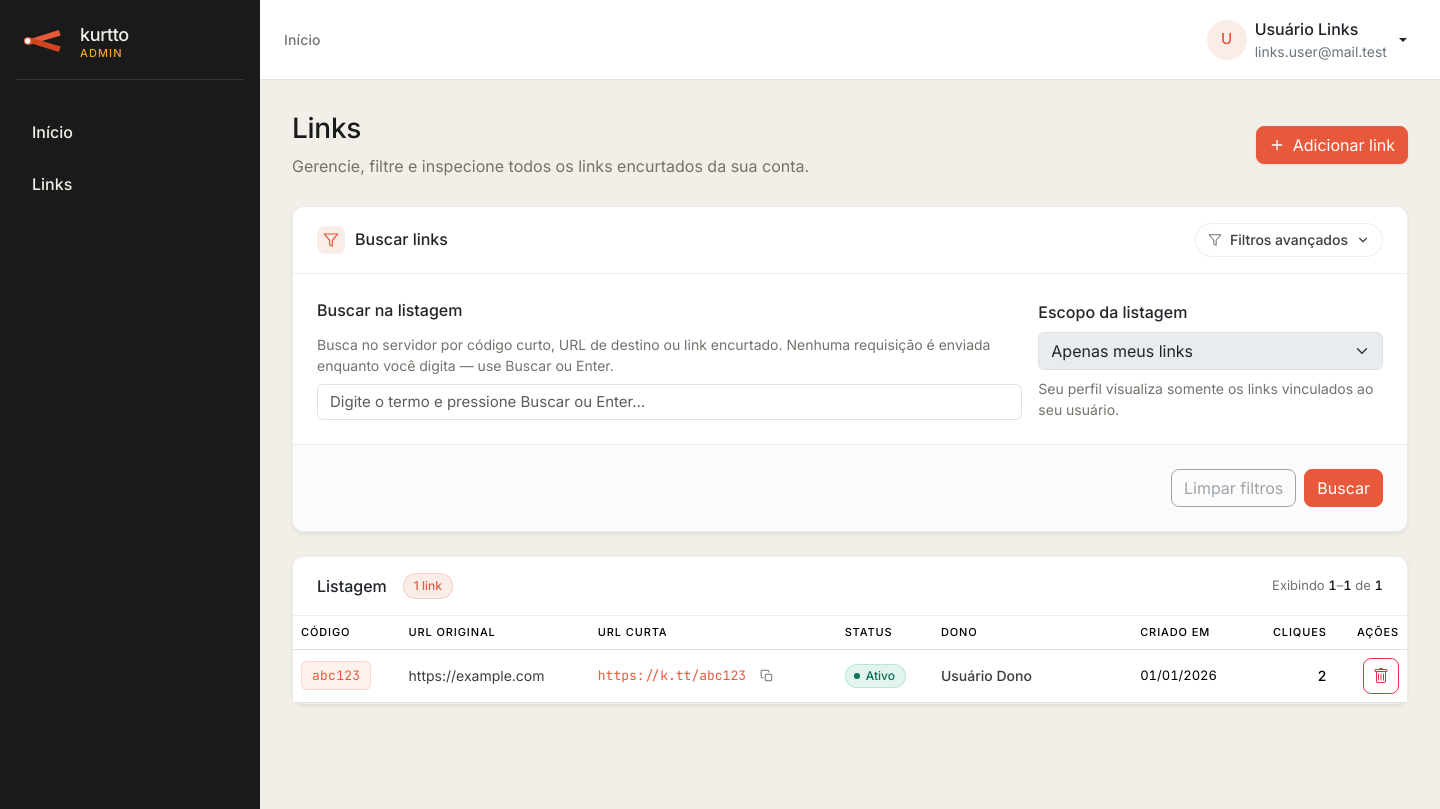
Links › exibe contagem de filtros ativos no botão de filtros avançados
expect the link "https://example.com" is shown: met, box [409,667,545,684]
Click the button "Filtros avançados" at (1289, 240), box [1195,223,1383,257]
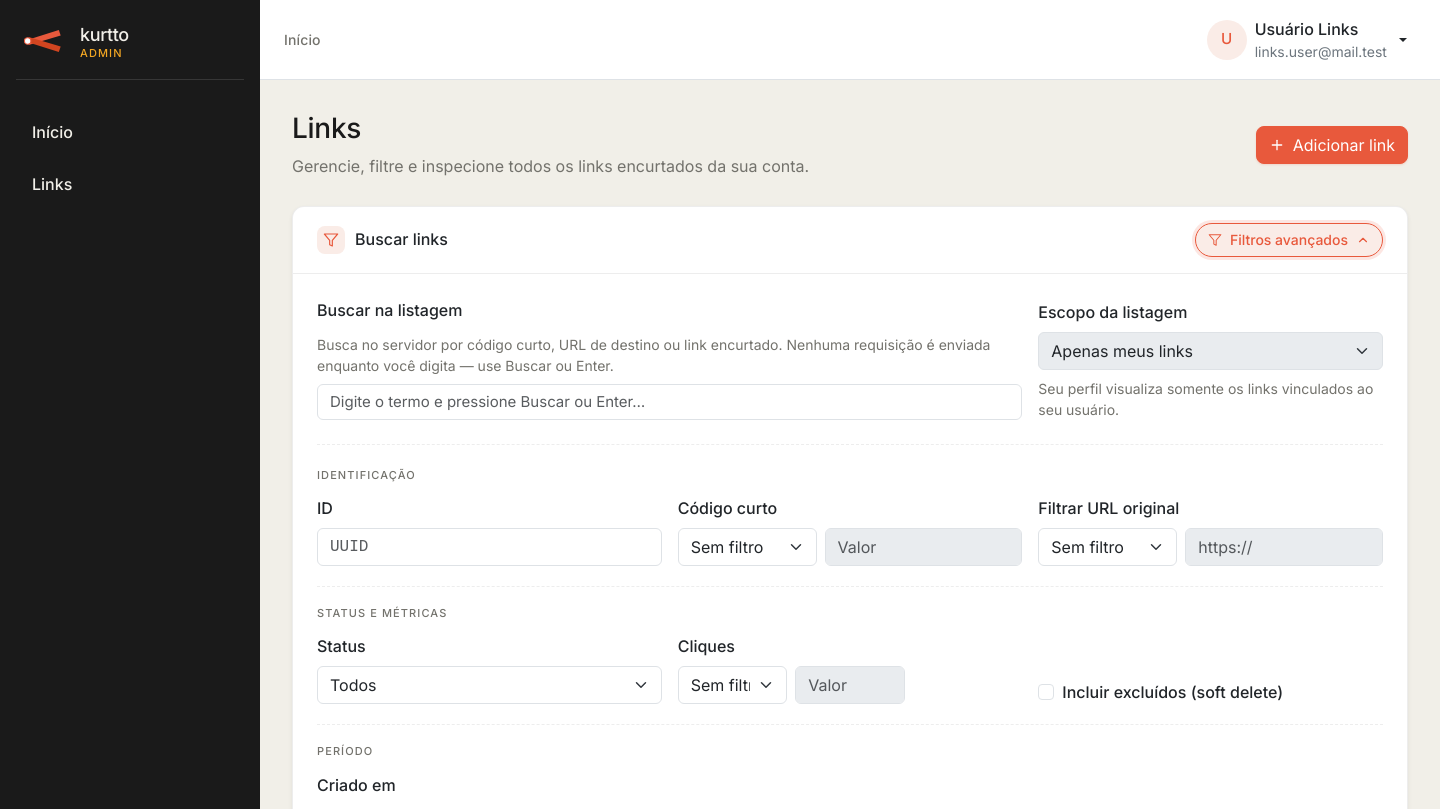
Type "uuid-test" into the field with id "links-filter-id" at (489, 547), box [317,528,662,566]
(page scrolled)
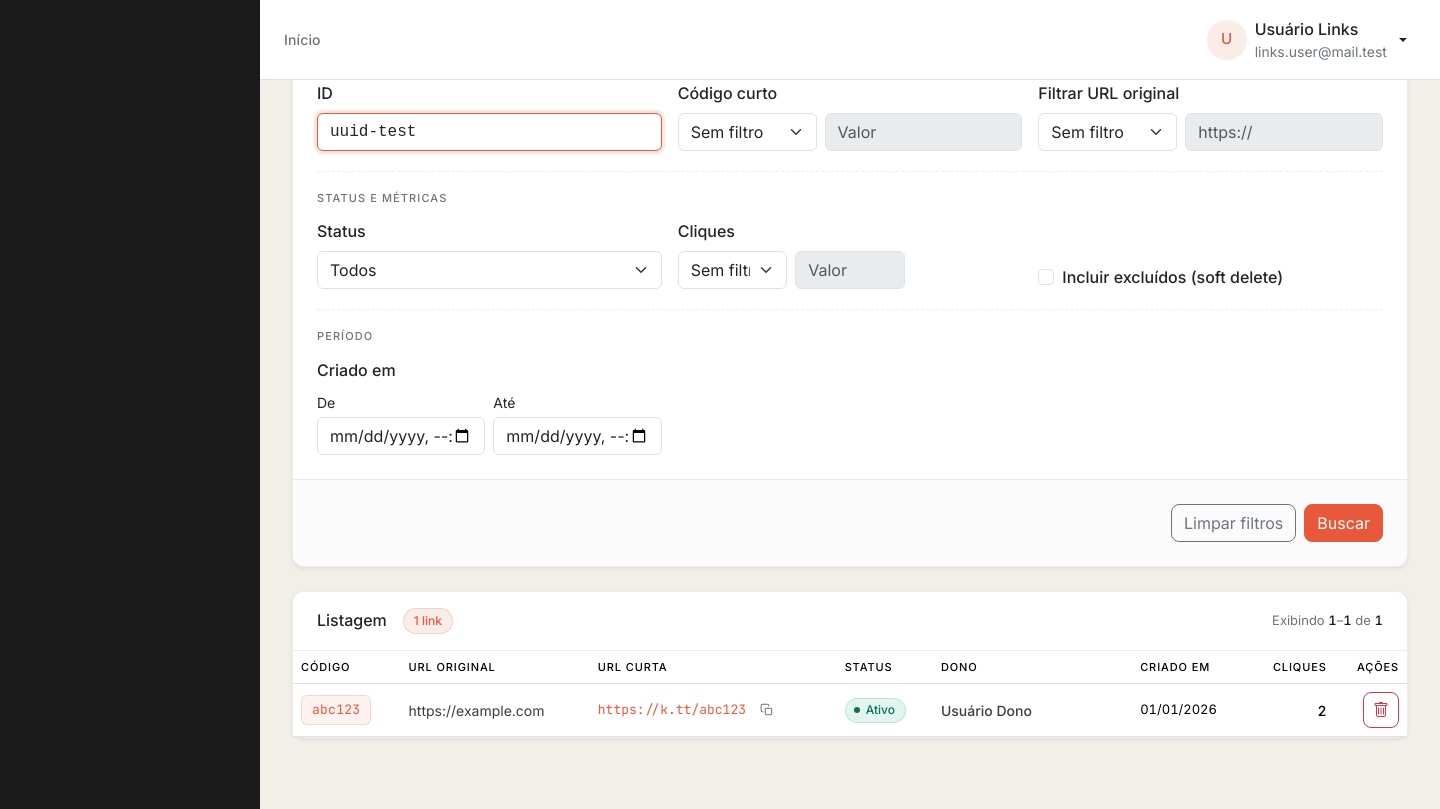
Click the button "Buscar" at (1344, 523), box [1304,504,1383,542]
(page scrolled)
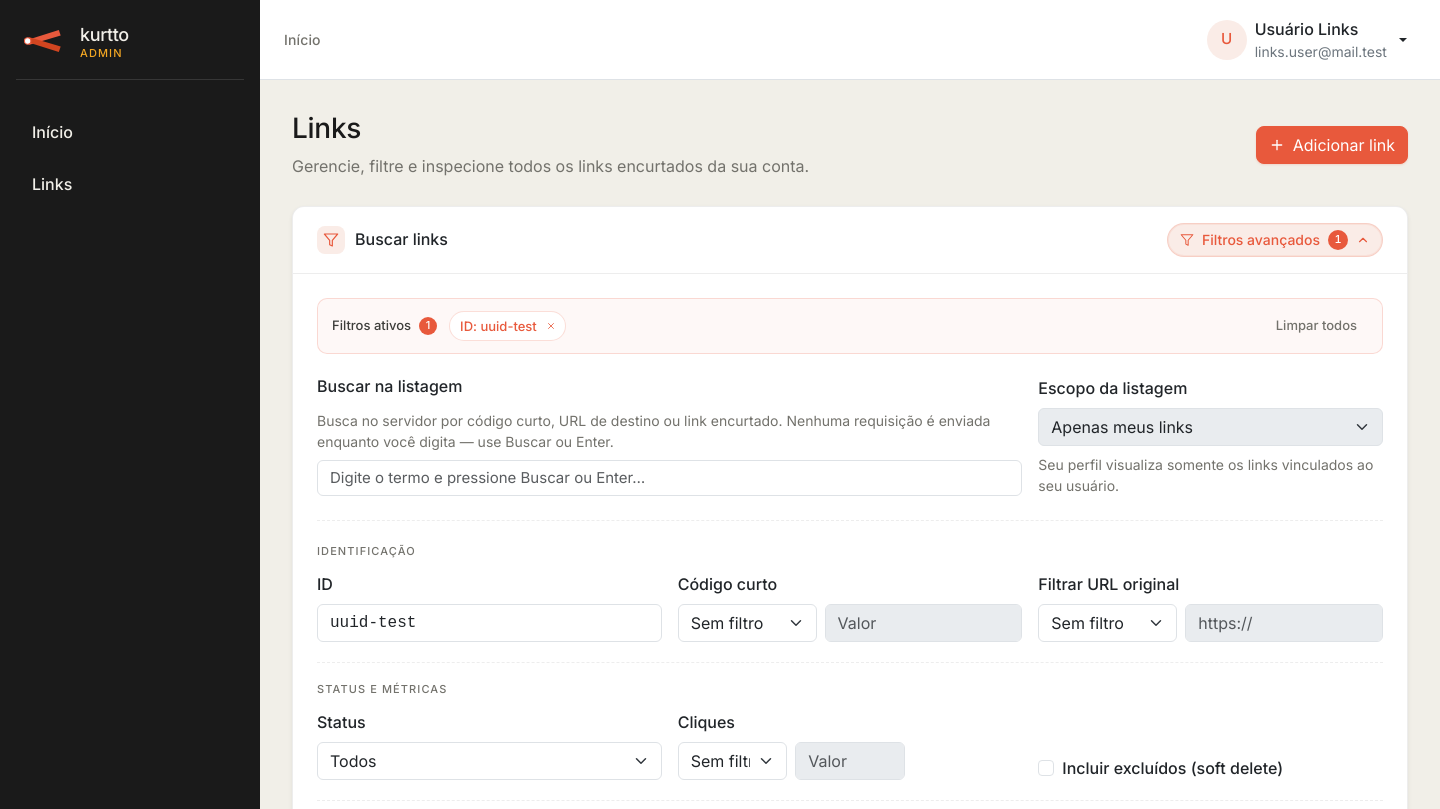
expect the text "1" in the row of "Buscar links" is shown: met, box [1334,232,1342,246]
